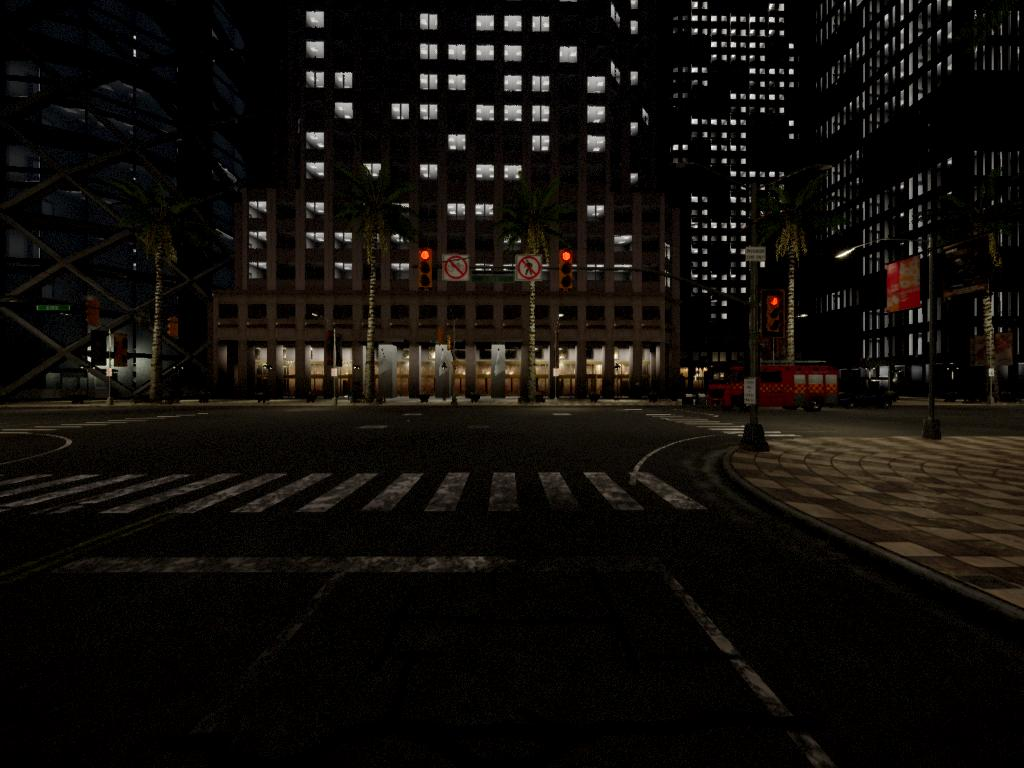traffic_light: (764, 293, 786, 337), (558, 253, 575, 296), (418, 249, 435, 292)
